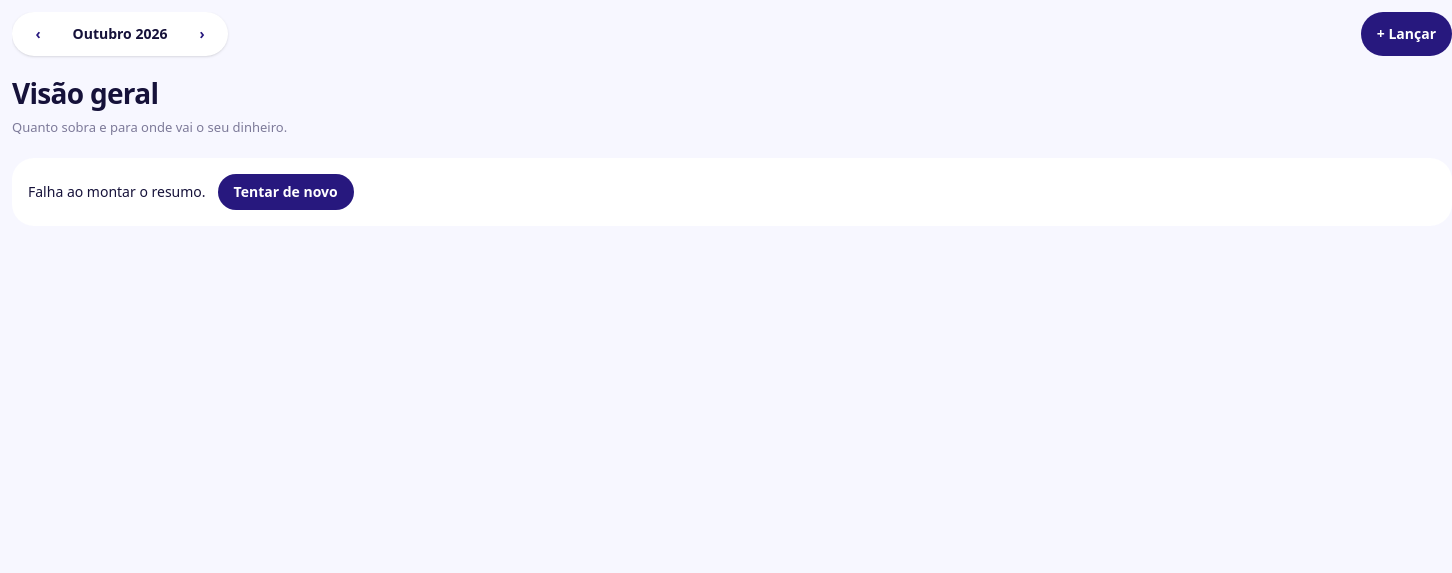
Scenario: InicioPage › mostra_erro_com_botao_para_tentar_de_novo
The width and height of the screenshot is (1452, 573).
expect the message shows "Falha ao montar o resumo.": met, box [28,182,206,200]
Step 1. Click the button "Tentar de novo" → [286, 192], box [218,174,354,210]
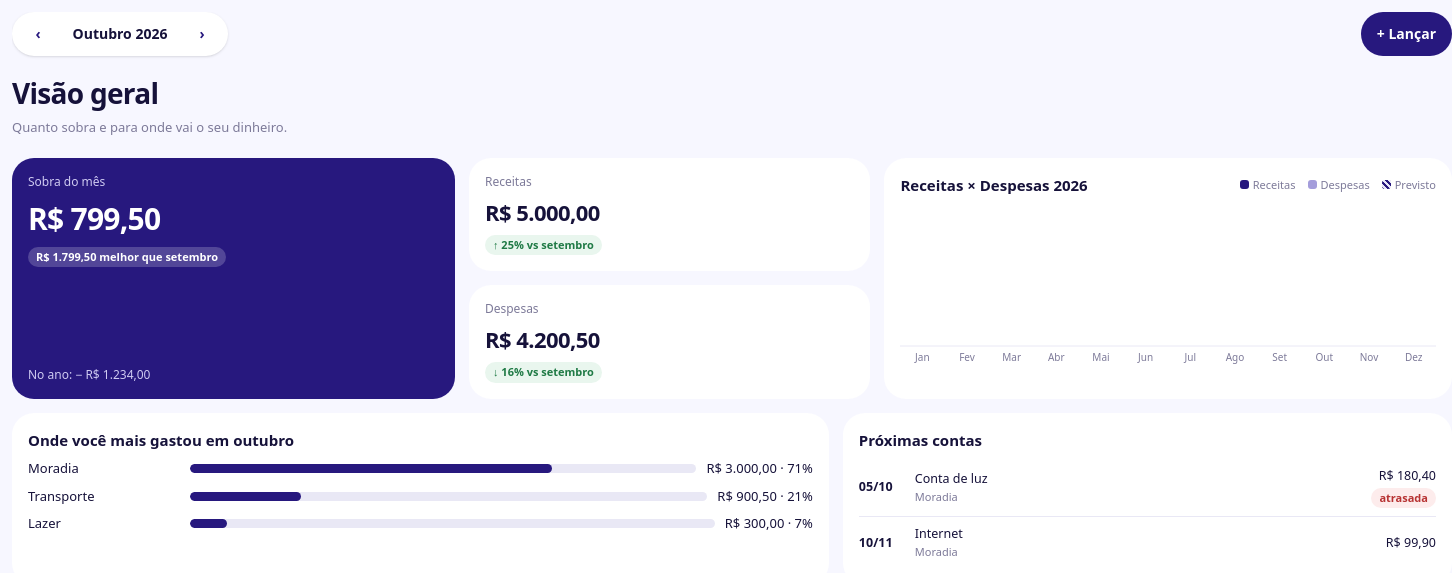
expect the element "Sobra do mês" is shown: met, box [12,158,455,398]
